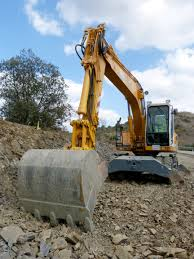excavator: (15, 21, 181, 229)
